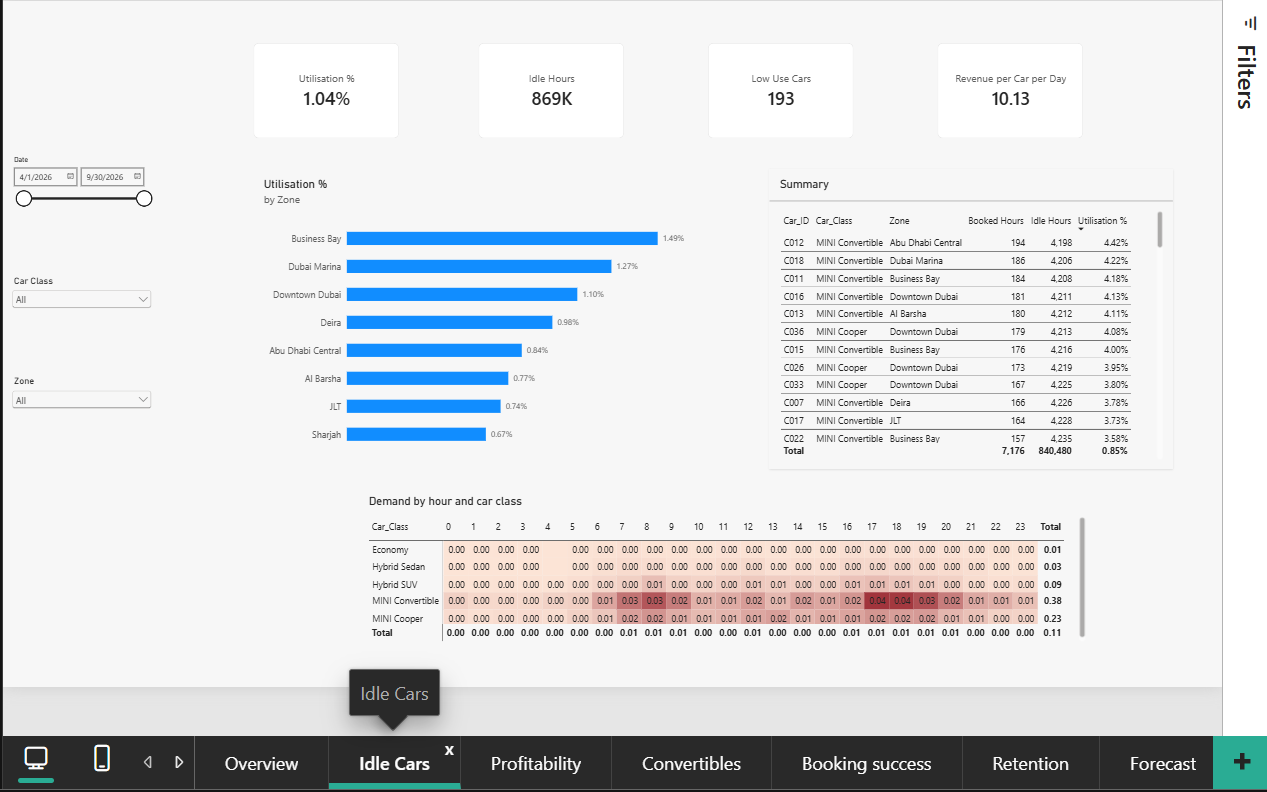

The page's visual inventory and layout, read from the dashboard file:
{"tool":"powerbi","page":{"name":"Idle Cars","canvas":[1920,1080],"ordinal":1},"visuals":[{"type":"slicer","fields":{"Values":["Date.Date"]},"box":[9.5,243.4,229.2,99.2],"z":0},{"type":"slicer","fields":{"Values":["Cars.Car_Class"]},"box":[9.5,432.4,229.2,59.1],"z":1000},{"type":"slicer","fields":{"Values":["Cars.Zone"]},"box":[9.5,590.7,229.2,61.4],"z":2000},{"type":"cardVisual","fields":{"Data":["_Measures.Utilisation %"]},"box":[394.6,66.2,229,150],"z":3000},{"type":"cardVisual","fields":{"Data":["_Measures.Idle Hours"]},"box":[749,66.2,229,150],"z":4000},{"type":"cardVisual","fields":{"Data":["Low Use Threshold.Low Use Cars"]},"box":[1110.4,66.2,229,150],"z":5000},{"type":"cardVisual","fields":{"Data":["_Measures.Revenue per Car per Day"]},"box":[1471.9,66.2,229,150],"z":6000},{"type":"clusteredBarChart","fields":{"Category":["Cars.Zone"],"Y":["_Measures.Utilisation %"]},"box":[394.6,264.6,694.6,463.1],"z":7000},{"type":"pivotTable","title":"Demand by hour and car class ","fields":{"Columns":["Trips.Start_Hour"],"Rows":["Cars.Car_Class"],"Values":["_Measures.Trips per Car per Day"]},"box":[559.9,763.1,1160.5,261.3],"z":8000},{"type":"tableEx","title":"Summary","fields":{"Values":["Cars.Car_ID","Cars.Car_Class","Cars.Zone","_Measures.Booked Hours","_Measures.Idle Hours","_Measures.Utilisation %"]},"box":[1207.3,264.6,635.5,472.5],"z":9000}]}

Visuals, with their boxes on the page's 1920x1080 design canvas (x1, y1, x2, y2). These are canvas units, not pixel positions in the 1267x792 screenshot, which may show the page scaled, cropped or inside an application window:
slicer - Date.Date: bbox=[10, 243, 239, 343]
slicer - Cars.Car_Class: bbox=[10, 432, 239, 492]
slicer - Cars.Zone: bbox=[10, 591, 239, 652]
cardVisual - _Measures.Utilisation %: bbox=[395, 66, 624, 216]
cardVisual - _Measures.Idle Hours: bbox=[749, 66, 978, 216]
cardVisual - Low Use Threshold.Low Use Cars: bbox=[1110, 66, 1339, 216]
cardVisual - _Measures.Revenue per Car per Day: bbox=[1472, 66, 1701, 216]
clusteredBarChart - Cars.Zone x _Measures.Utilisation %: bbox=[395, 265, 1089, 728]
"Demand by hour and car class " pivotTable: bbox=[560, 763, 1720, 1024]
"Summary" tableEx: bbox=[1207, 265, 1843, 737]
